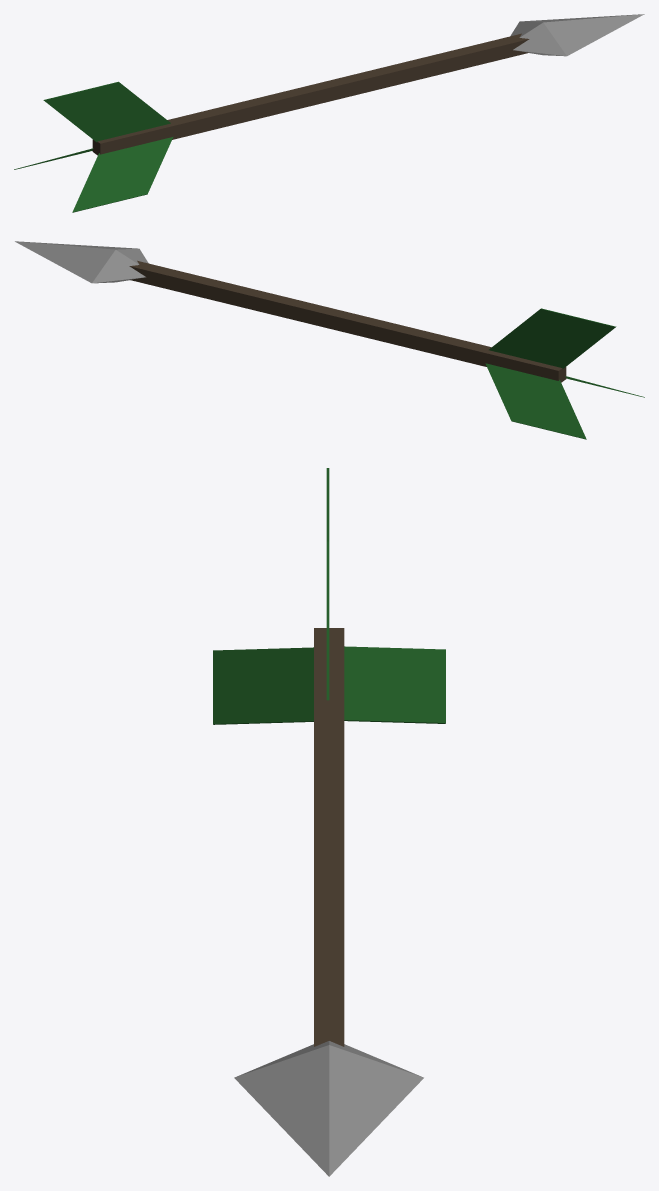
File: Arrow.fbx
3 views of the same model, one above another, from view 1: azimuth 30°, elevation 25°; view 2: azimuth 150°, elevation 25°; view 3: azimuth 270°, elevation 25° (orthographic). The views are drawn at different scales.
Parts seen in each view (by area): view 1: Cube; view 2: Cube; view 3: Cube.
Boxes of the visible parts, left/top/right/bottom form: Cube: left=14, top=14, right=644, bottom=212; Cube: left=15, top=241, right=644, bottom=439; Cube: left=213, top=468, right=445, bottom=1176.
Size of the model in its own units: 51.76 by 7.53 by 8.68.
